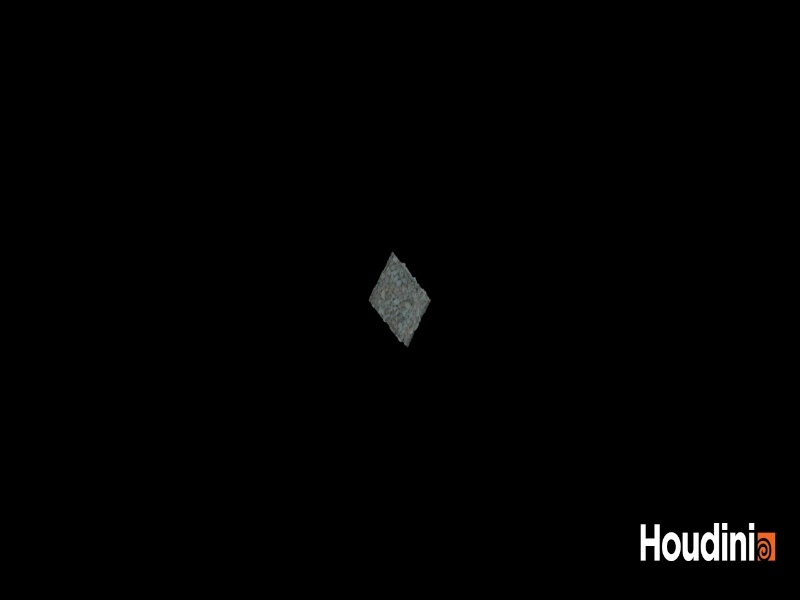waste: (360, 244, 447, 356)
